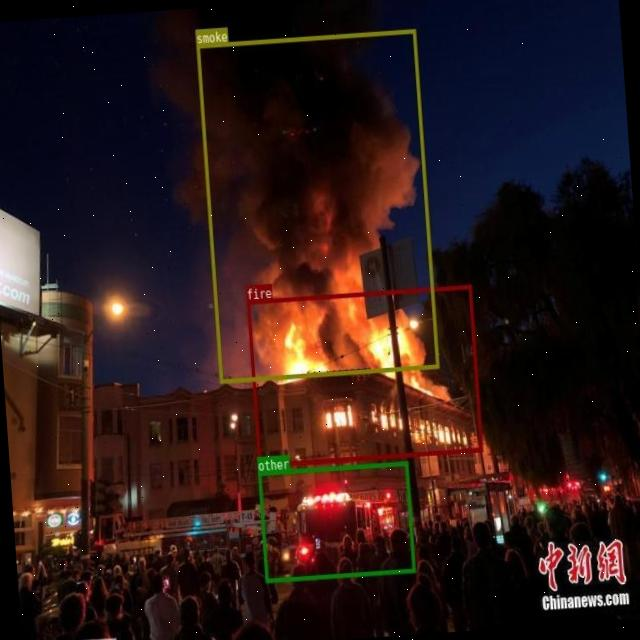fire: (246, 284, 482, 466)
smoke: (195, 29, 438, 384)
